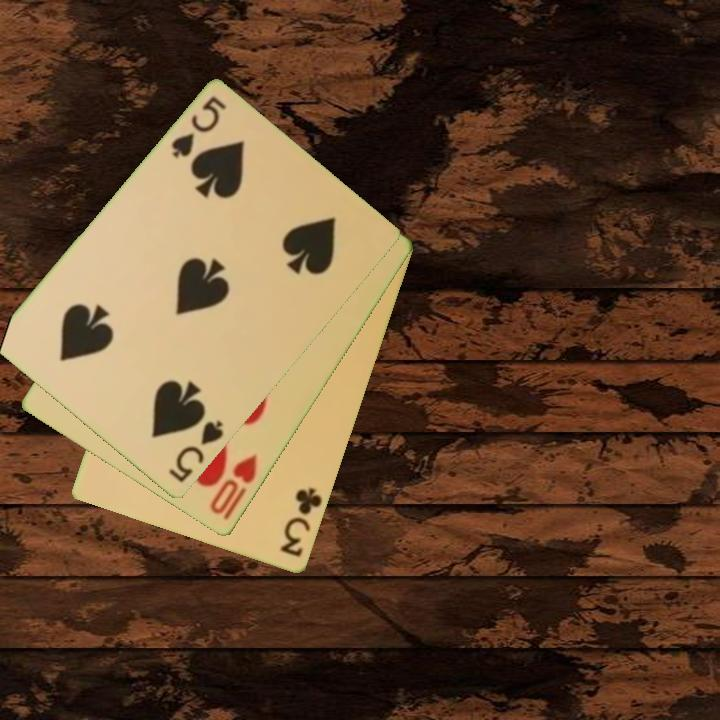10h: (206, 450, 261, 524)
3c: (276, 484, 326, 561)
5s: (165, 417, 227, 487), (167, 93, 229, 162)
